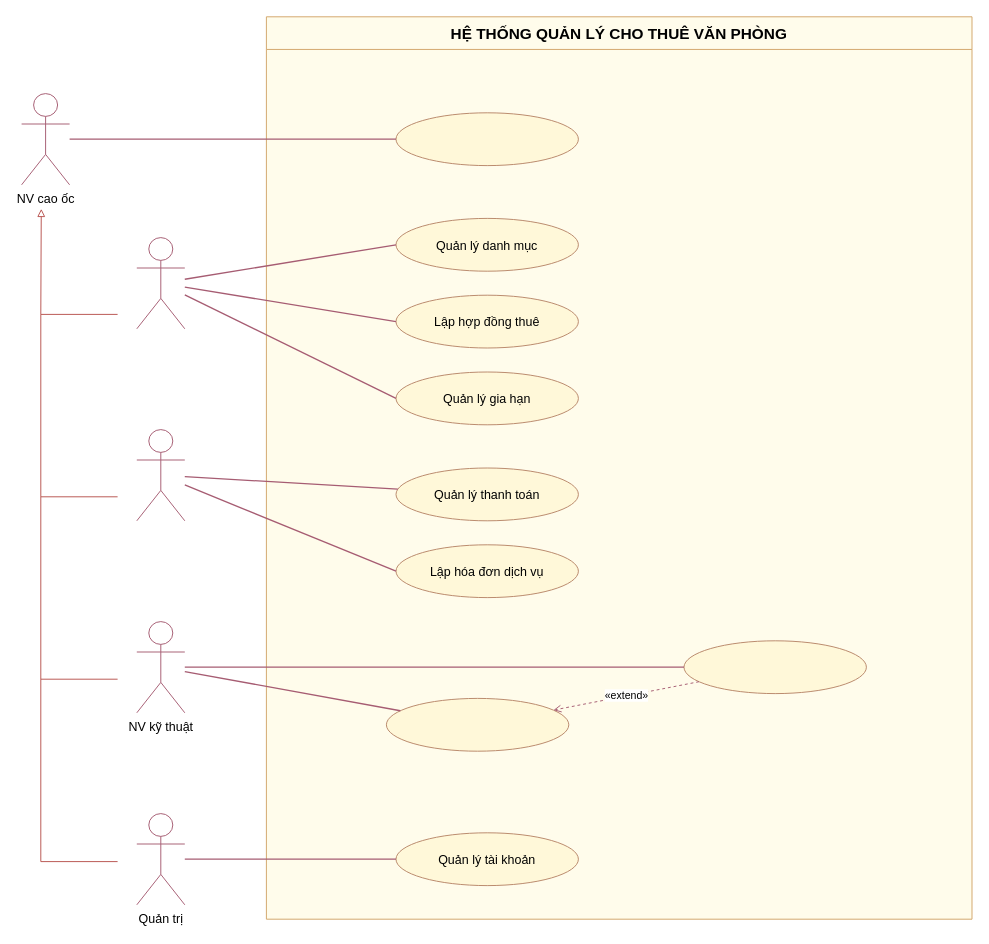
The diagram is 989 pixels wide and 944 high, and some of its shapes have lost their labels. The shapes that lost their labels are listed below. From the top down, each one's centre as x and y in pixels, then its label:
At (486,139): "Tra cứu thông tin".
At (160,283): "NV quản lý".
At (160,475): "NV kế toán".
At (774,667): "Lập biên bản vi phạm".
At (477,724): "Kiểm tra phòng định kỳ".
